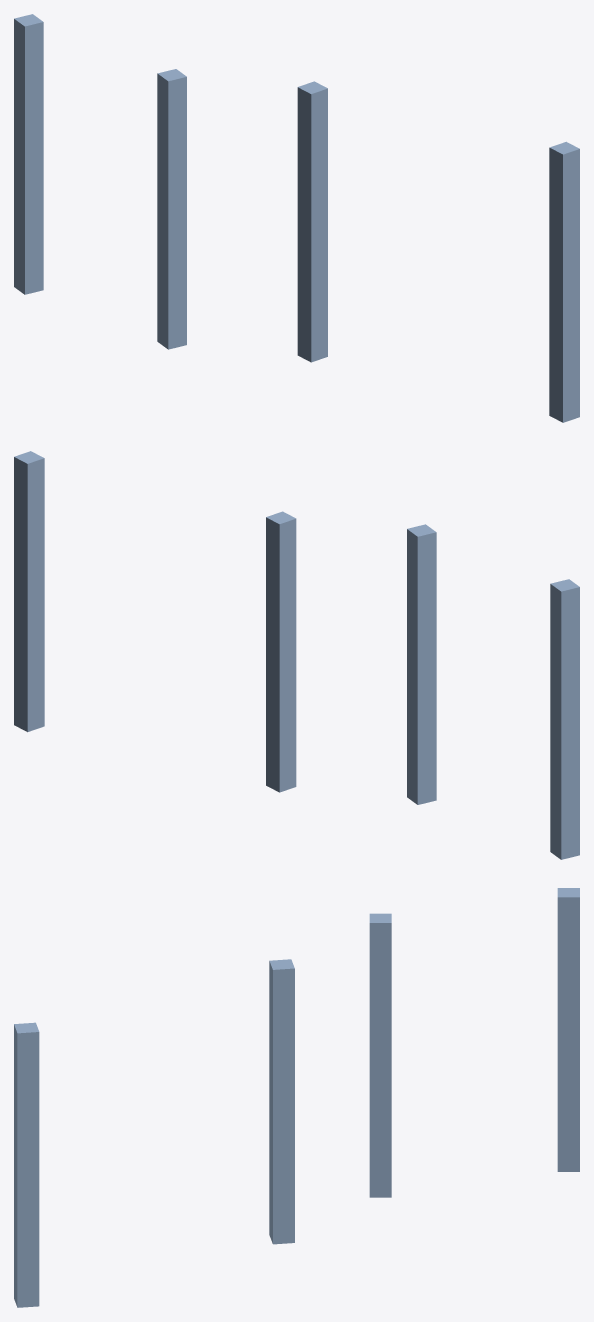
3 renders of one model, top to bottom at view 1: azimuth 30°, elevation 25°; view 2: azimuth 210°, elevation 25°; view 3: azimuth 270°, elevation 25°, orthographic. The views are drawn at different scales.
Parts seen in each view (by area): view 1: Cube.064, Cube.066, Cube.045, Cube.059; view 2: Cube.064, Cube.066, Cube.045, Cube.059; view 3: Cube.064, Cube.066, Cube.059, Cube.045.
Boxes of the visible parts, left/top/right/bottom form: Cube.064: left=297, top=81, right=327, bottom=362; Cube.066: left=549, top=141, right=579, bottom=422; Cube.045: left=14, top=14, right=43, bottom=294; Cube.059: left=157, top=69, right=186, bottom=349; Cube.064: left=266, top=511, right=296, bottom=792; Cube.066: left=14, top=451, right=44, bottom=732; Cube.045: left=550, top=579, right=579, bottom=859; Cube.059: left=407, top=524, right=436, bottom=804; Cube.064: left=269, top=959, right=294, bottom=1244; Cube.066: left=14, top=1022, right=39, bottom=1307; Cube.059: left=369, top=913, right=391, bottom=1197; Cube.045: left=557, top=888, right=579, bottom=1171.
Bounding box in the file's own units: 3099 × 2730 × 5102.
